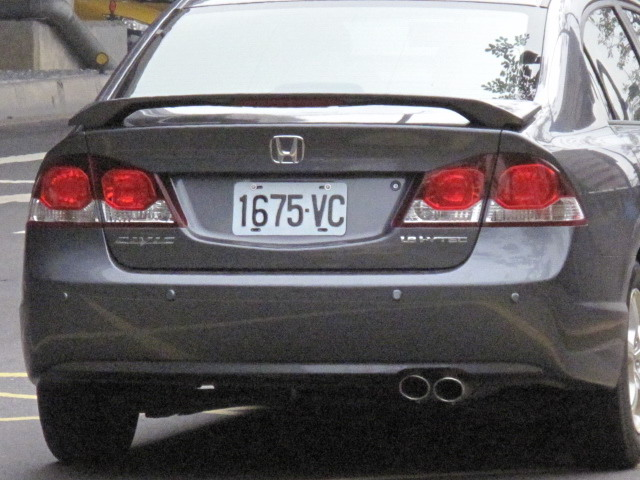plate: (232, 178, 354, 242)
